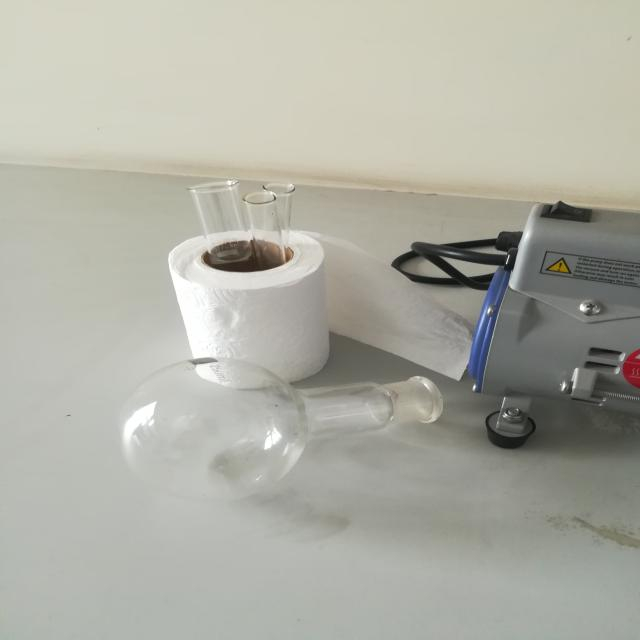Round_Bottom_Flask_Borosilicate_Glass_1_Neck: (119, 328, 473, 515)
